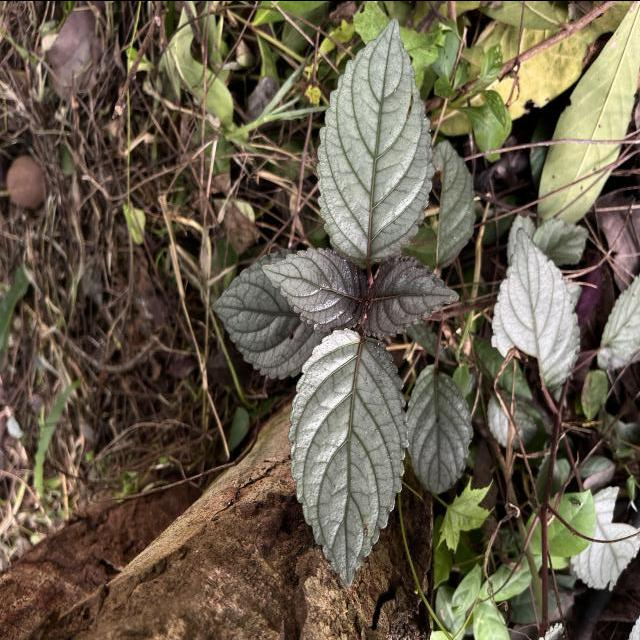Hemigraphis colorata: (285, 324, 410, 589), (314, 14, 436, 268), (205, 244, 326, 381), (488, 225, 584, 392), (259, 244, 372, 332), (364, 250, 462, 340)
